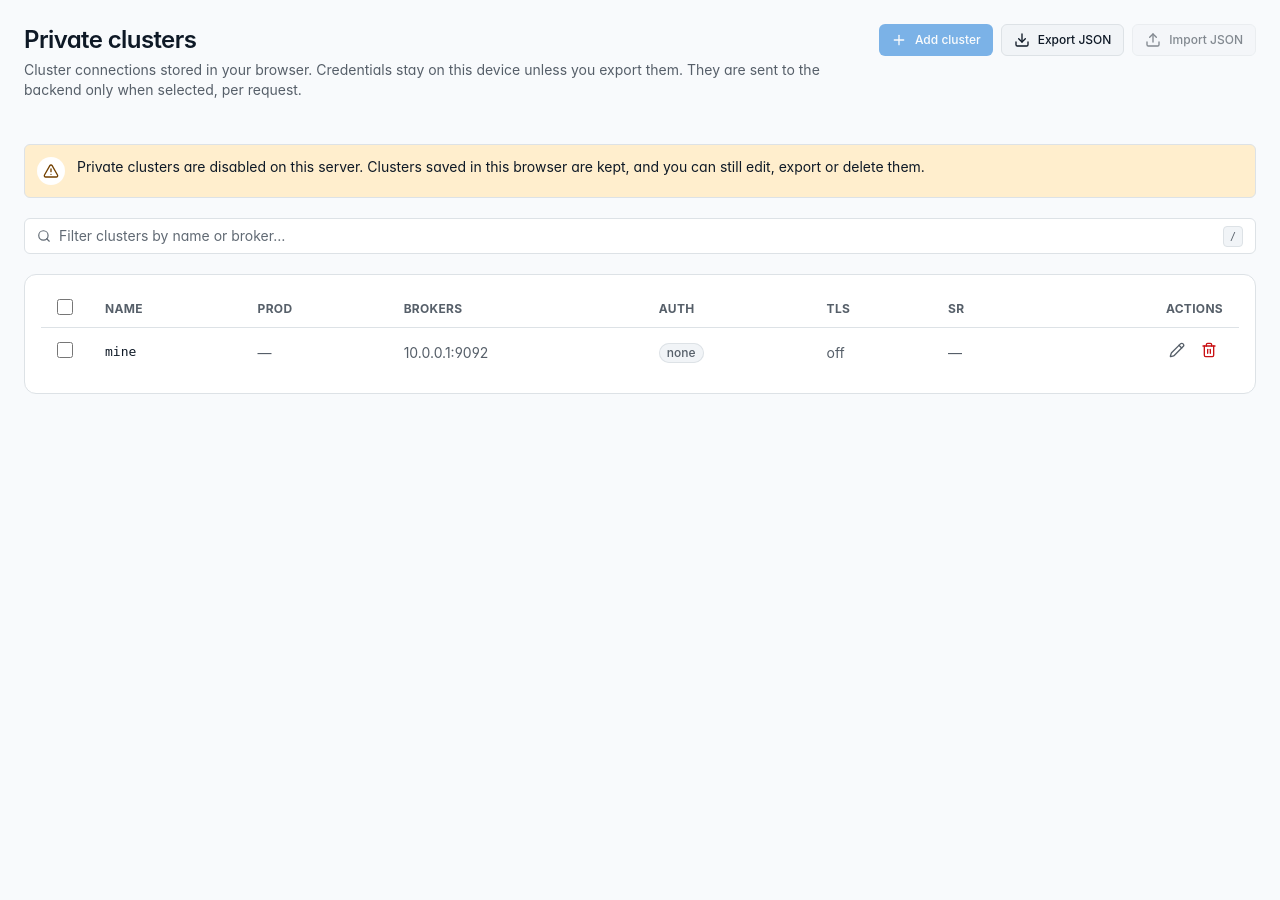
private cluster settings when the server does not allow them › explains mode off and disables add, import and test connection
Expected: the message shows "Private clusters are disabled on this server.", [77, 158, 363, 175]
Expected: the button "Add cluster" is disabled, [879, 24, 993, 56]
Click the button named "Edit" at (1177, 350), box [1163, 336, 1191, 364]
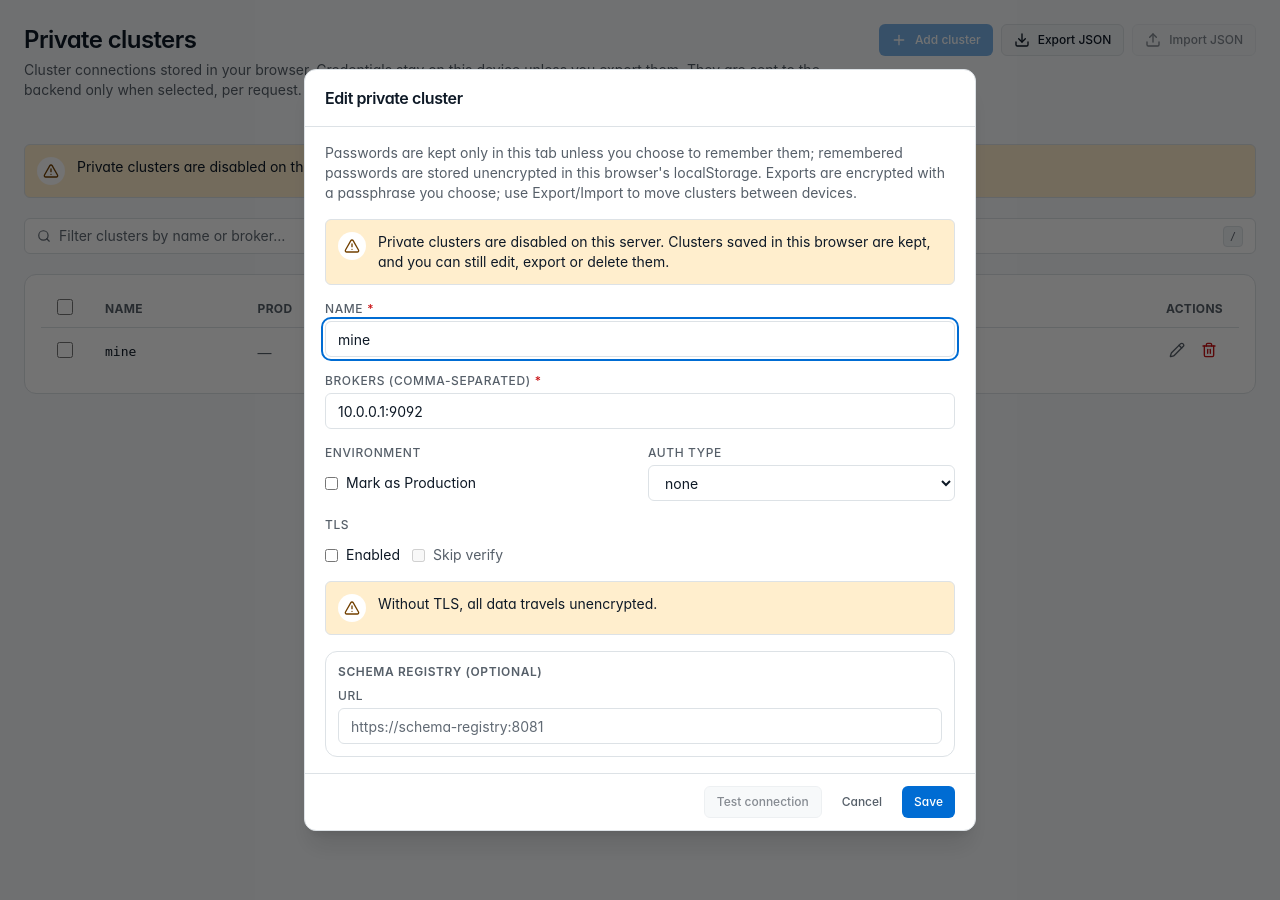
Now the button "Test connection" is disabled, box [704, 786, 822, 818]
Now the text "Private clusters are disabled on this server." is shown, box [378, 233, 664, 250]
Now the button "Save" is enabled, box [902, 786, 955, 818]
